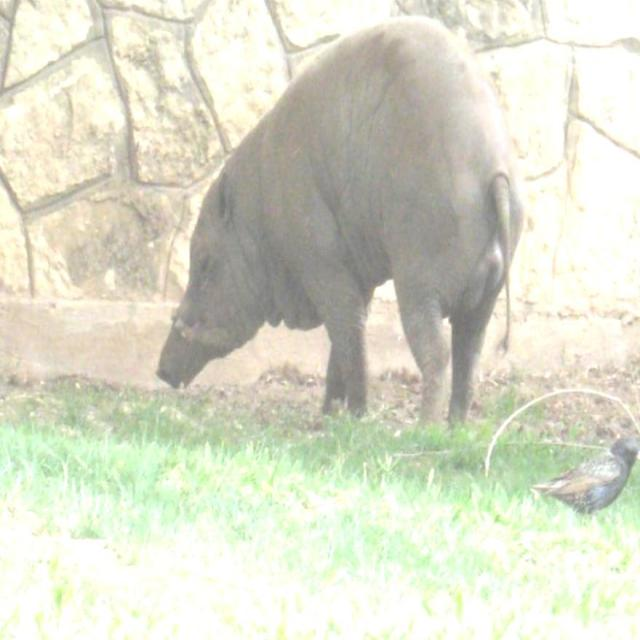pig: (158, 18, 522, 421)
